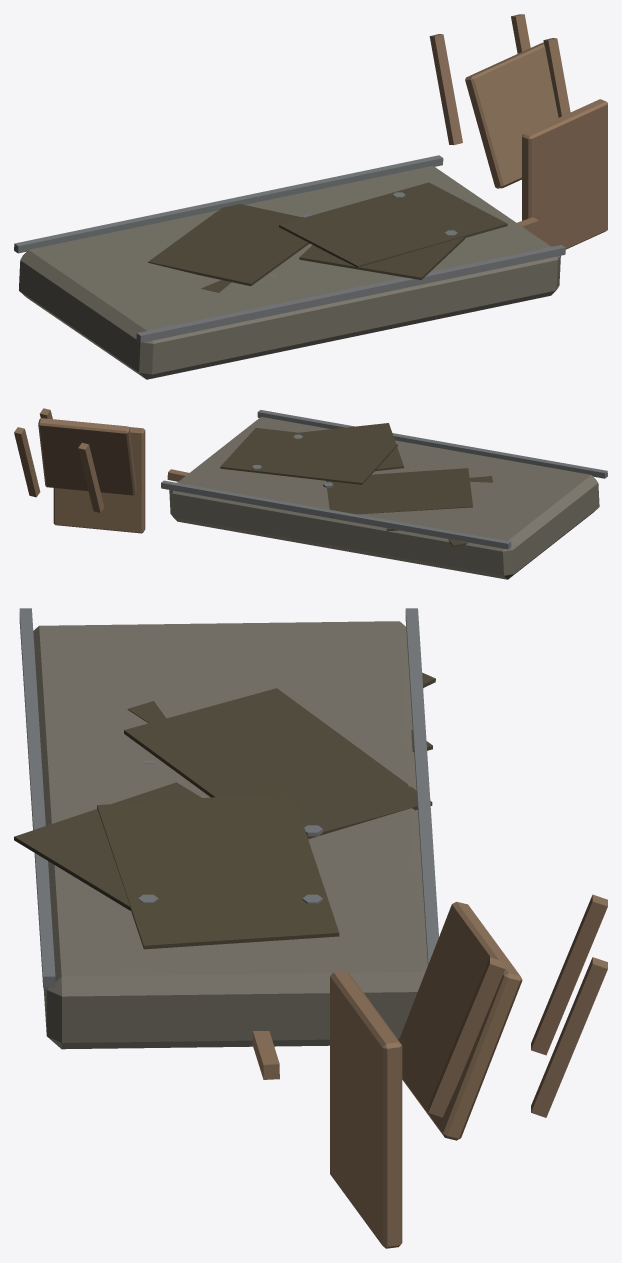
The model's file is litter_mattress.glb.
The picture shows the model from 3 angles, top to bottom: view 1: azimuth 30°, elevation 25°; view 2: azimuth 150°, elevation 25°; view 3: azimuth 270°, elevation 25°; orthographic projection. The views are drawn at different scales.
Visible parts, largest first — view 1: litter_mattress; view 2: litter_mattress; view 3: litter_mattress.
Part boxes in pixels (x1,y1,x2,y2): litter_mattress: [14, 14, 607, 379]; litter_mattress: [14, 408, 607, 579]; litter_mattress: [14, 608, 607, 1248].
Size of the model in its own units: 2.59 by 0.732 by 1.45.
